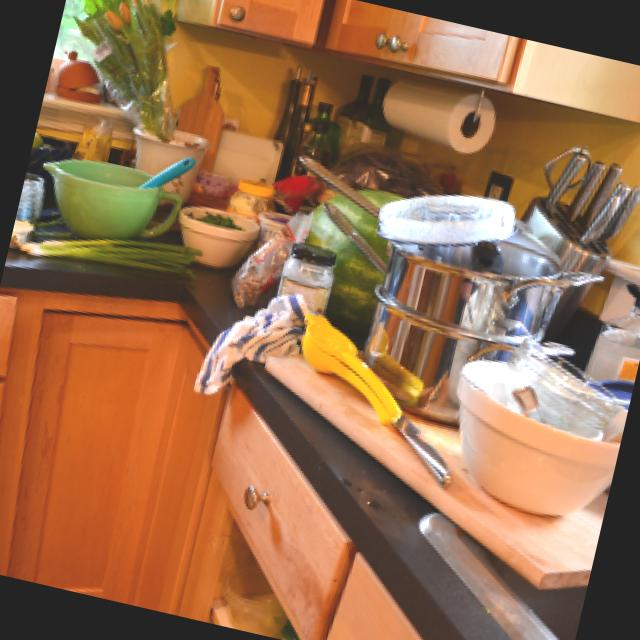mess: (99, 111, 640, 640), (9, 138, 226, 298)
